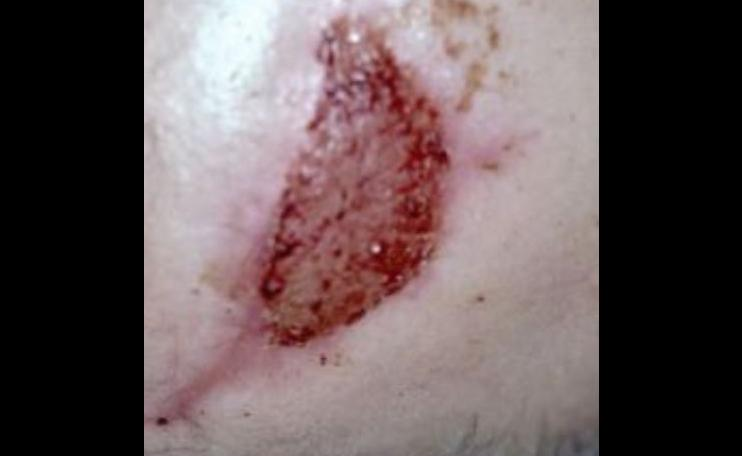NonPU: (213, 0, 534, 400)
